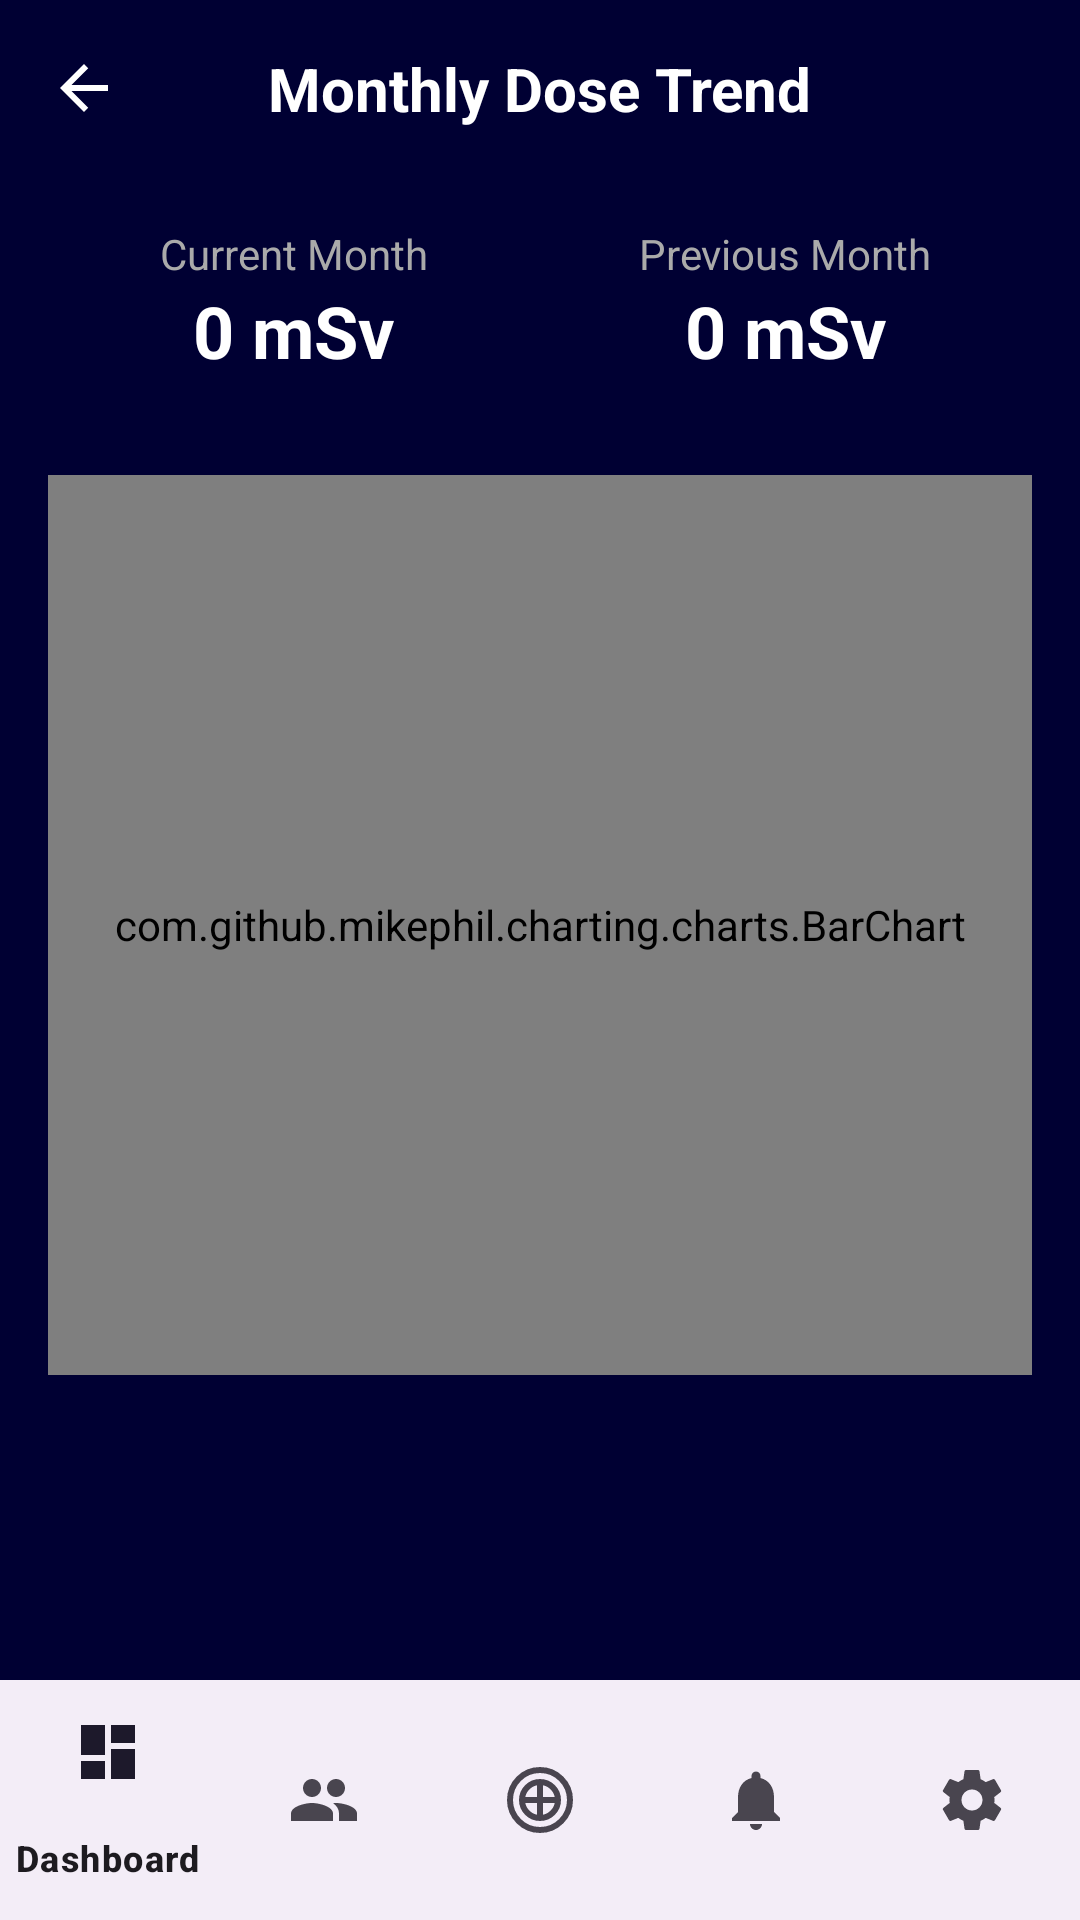

Screen size 1080*1920. Icon name, then its center in pixels as point (x, y):
arrow back: point (84, 88)
